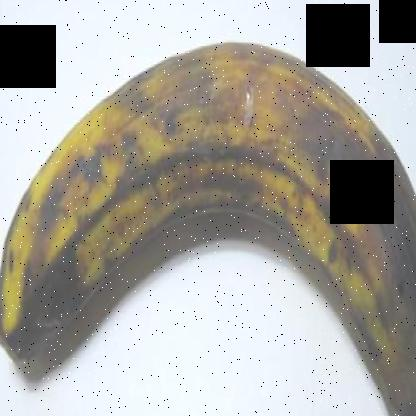overripe: (0, 28, 415, 415)
